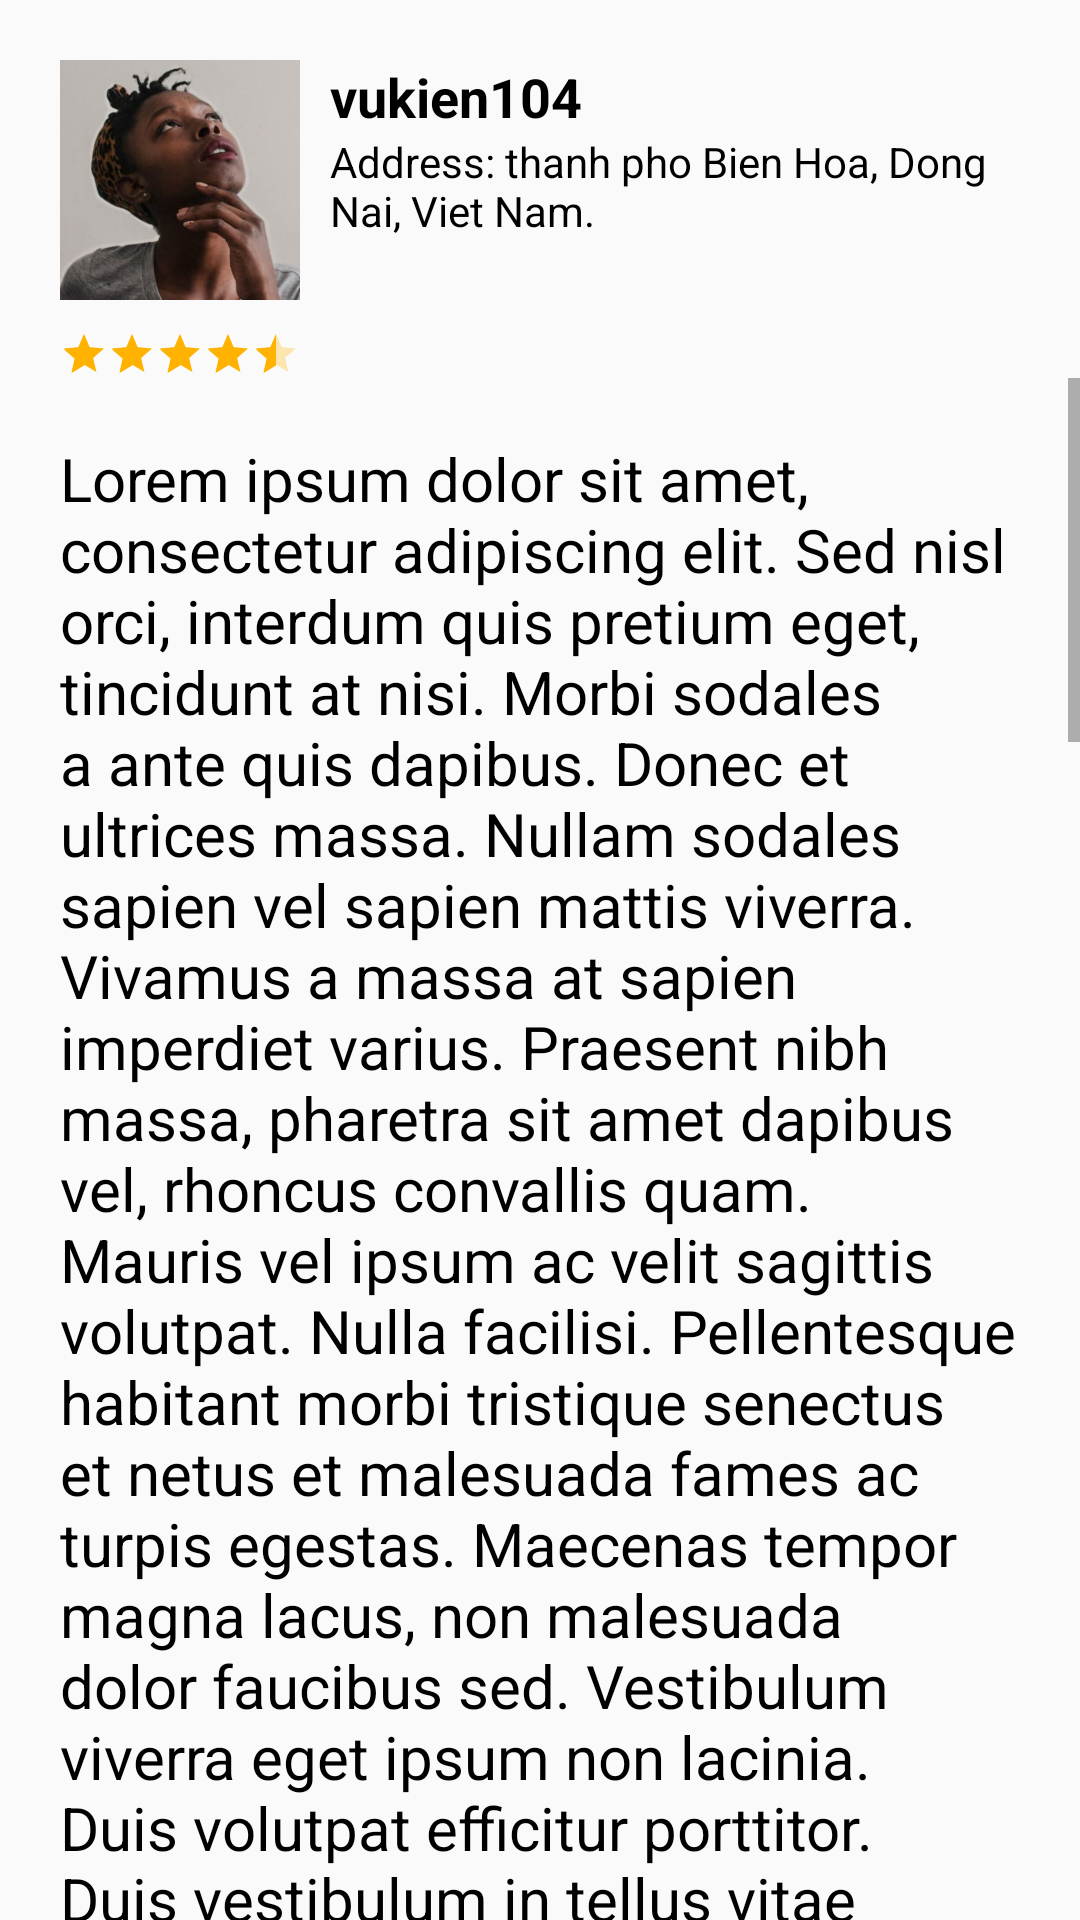

Icon bounding boxes for this 1080 x 1920 phone screenshot, format bbox=(x1, y1, x2, y2):
profileone: bbox=(60, 60, 300, 300)
